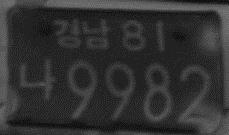1: (153, 18, 168, 50)
2: (172, 62, 219, 130)
8: (143, 62, 172, 123), (120, 18, 146, 52)
9: (64, 57, 100, 124), (104, 60, 137, 122)
경남_O: (50, 17, 112, 50)
나: (18, 57, 57, 102)
